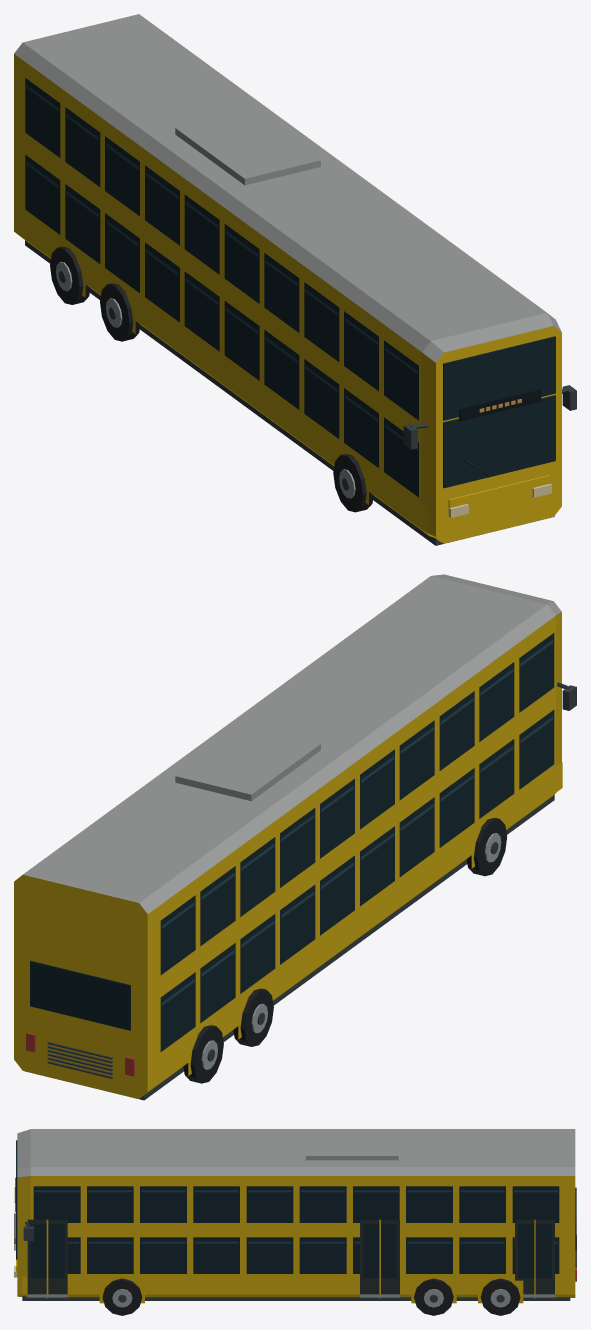
File: bus-bvg-double-deck.glb
The picture shows the model from 3 angles, top to bottom: view 1: azimuth 30°, elevation 25°; view 2: azimuth 150°, elevation 25°; view 3: azimuth 270°, elevation 25°; orthographic projection. The views are drawn at different scales.
Parts seen in each view (by area): view 1: bus-bvg-double-deck.segment-01.005; view 2: bus-bvg-double-deck.segment-01.005; view 3: bus-bvg-double-deck.segment-01.005.
Part boxes in pixels (x1=…): bus-bvg-double-deck.segment-01.005: x1=14, y1=14, x2=576, y2=545; bus-bvg-double-deck.segment-01.005: x1=14, y1=574, x2=576, y2=1100; bus-bvg-double-deck.segment-01.005: x1=14, y1=1129, x2=576, y2=1315.
Bounding box in the file's own units: 3.16 × 4.06 × 13.92.
